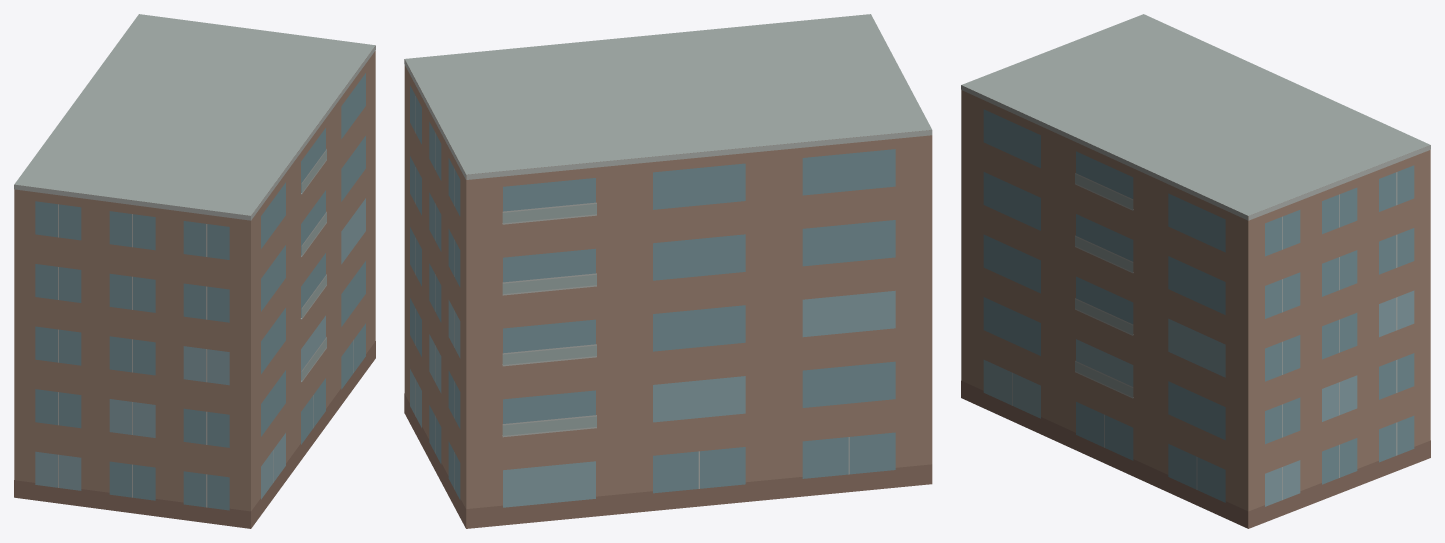
File: survey-upis-32837624.glb
3 renders of one model, left to right at view 1: azimuth 30°, elevation 25°; view 2: azimuth 150°, elevation 25°; view 3: azimuth 270°, elevation 25°, orthographic. The views are drawn at different scales.
Visible parts, largest first — view 1: survey-upis-32837624.tmp; view 2: survey-upis-32837624.tmp; view 3: survey-upis-32837624.tmp.
Part boxes in pixels (x1,y1,x2,y2): survey-upis-32837624.tmp: (14, 14, 375, 528); survey-upis-32837624.tmp: (404, 14, 932, 528); survey-upis-32837624.tmp: (961, 14, 1430, 528).
Size of the model in its own units: 22.01 by 15.9 by 21.63.
